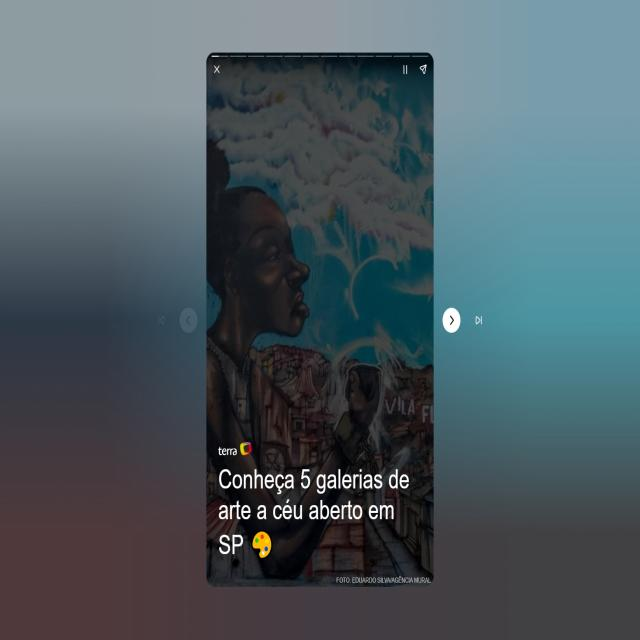menu-bar: (398, 59, 430, 80), (208, 60, 226, 80)
side-panel: (151, 300, 200, 338), (440, 304, 486, 338)
